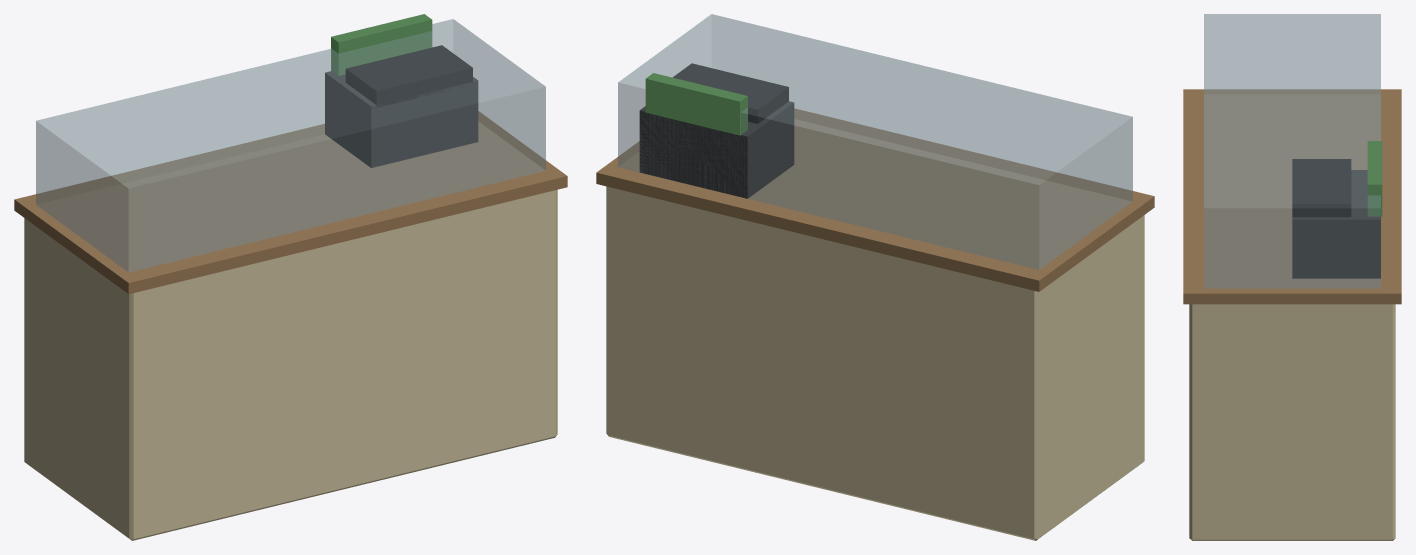
File: shop_counter.glb
3 renders of one model, left to right at view 1: azimuth 30°, elevation 25°; view 2: azimuth 150°, elevation 25°; view 3: azimuth 270°, elevation 25°, orthographic. The views are drawn at different scales.
Parts seen in each view (by area): view 1: ShopCounter; view 2: ShopCounter; view 3: ShopCounter.
Part boxes in pixels (left/top/right/bottom): ShopCounter: left=14, top=14, right=567, bottom=540; ShopCounter: left=596, top=14, right=1154, bottom=540; ShopCounter: left=1183, top=14, right=1401, bottom=540.
Bounding box in the file's own units: 1.64 × 1.28 × 0.74.
